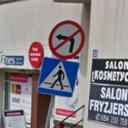NoVirarEsquerda: (47, 20, 86, 60)
